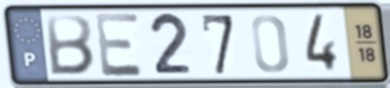0: (249, 13, 291, 76)
2: (147, 10, 197, 79)
4: (304, 11, 342, 75)
7: (199, 12, 236, 76)
B: (44, 12, 97, 77)
E: (92, 10, 147, 79)
